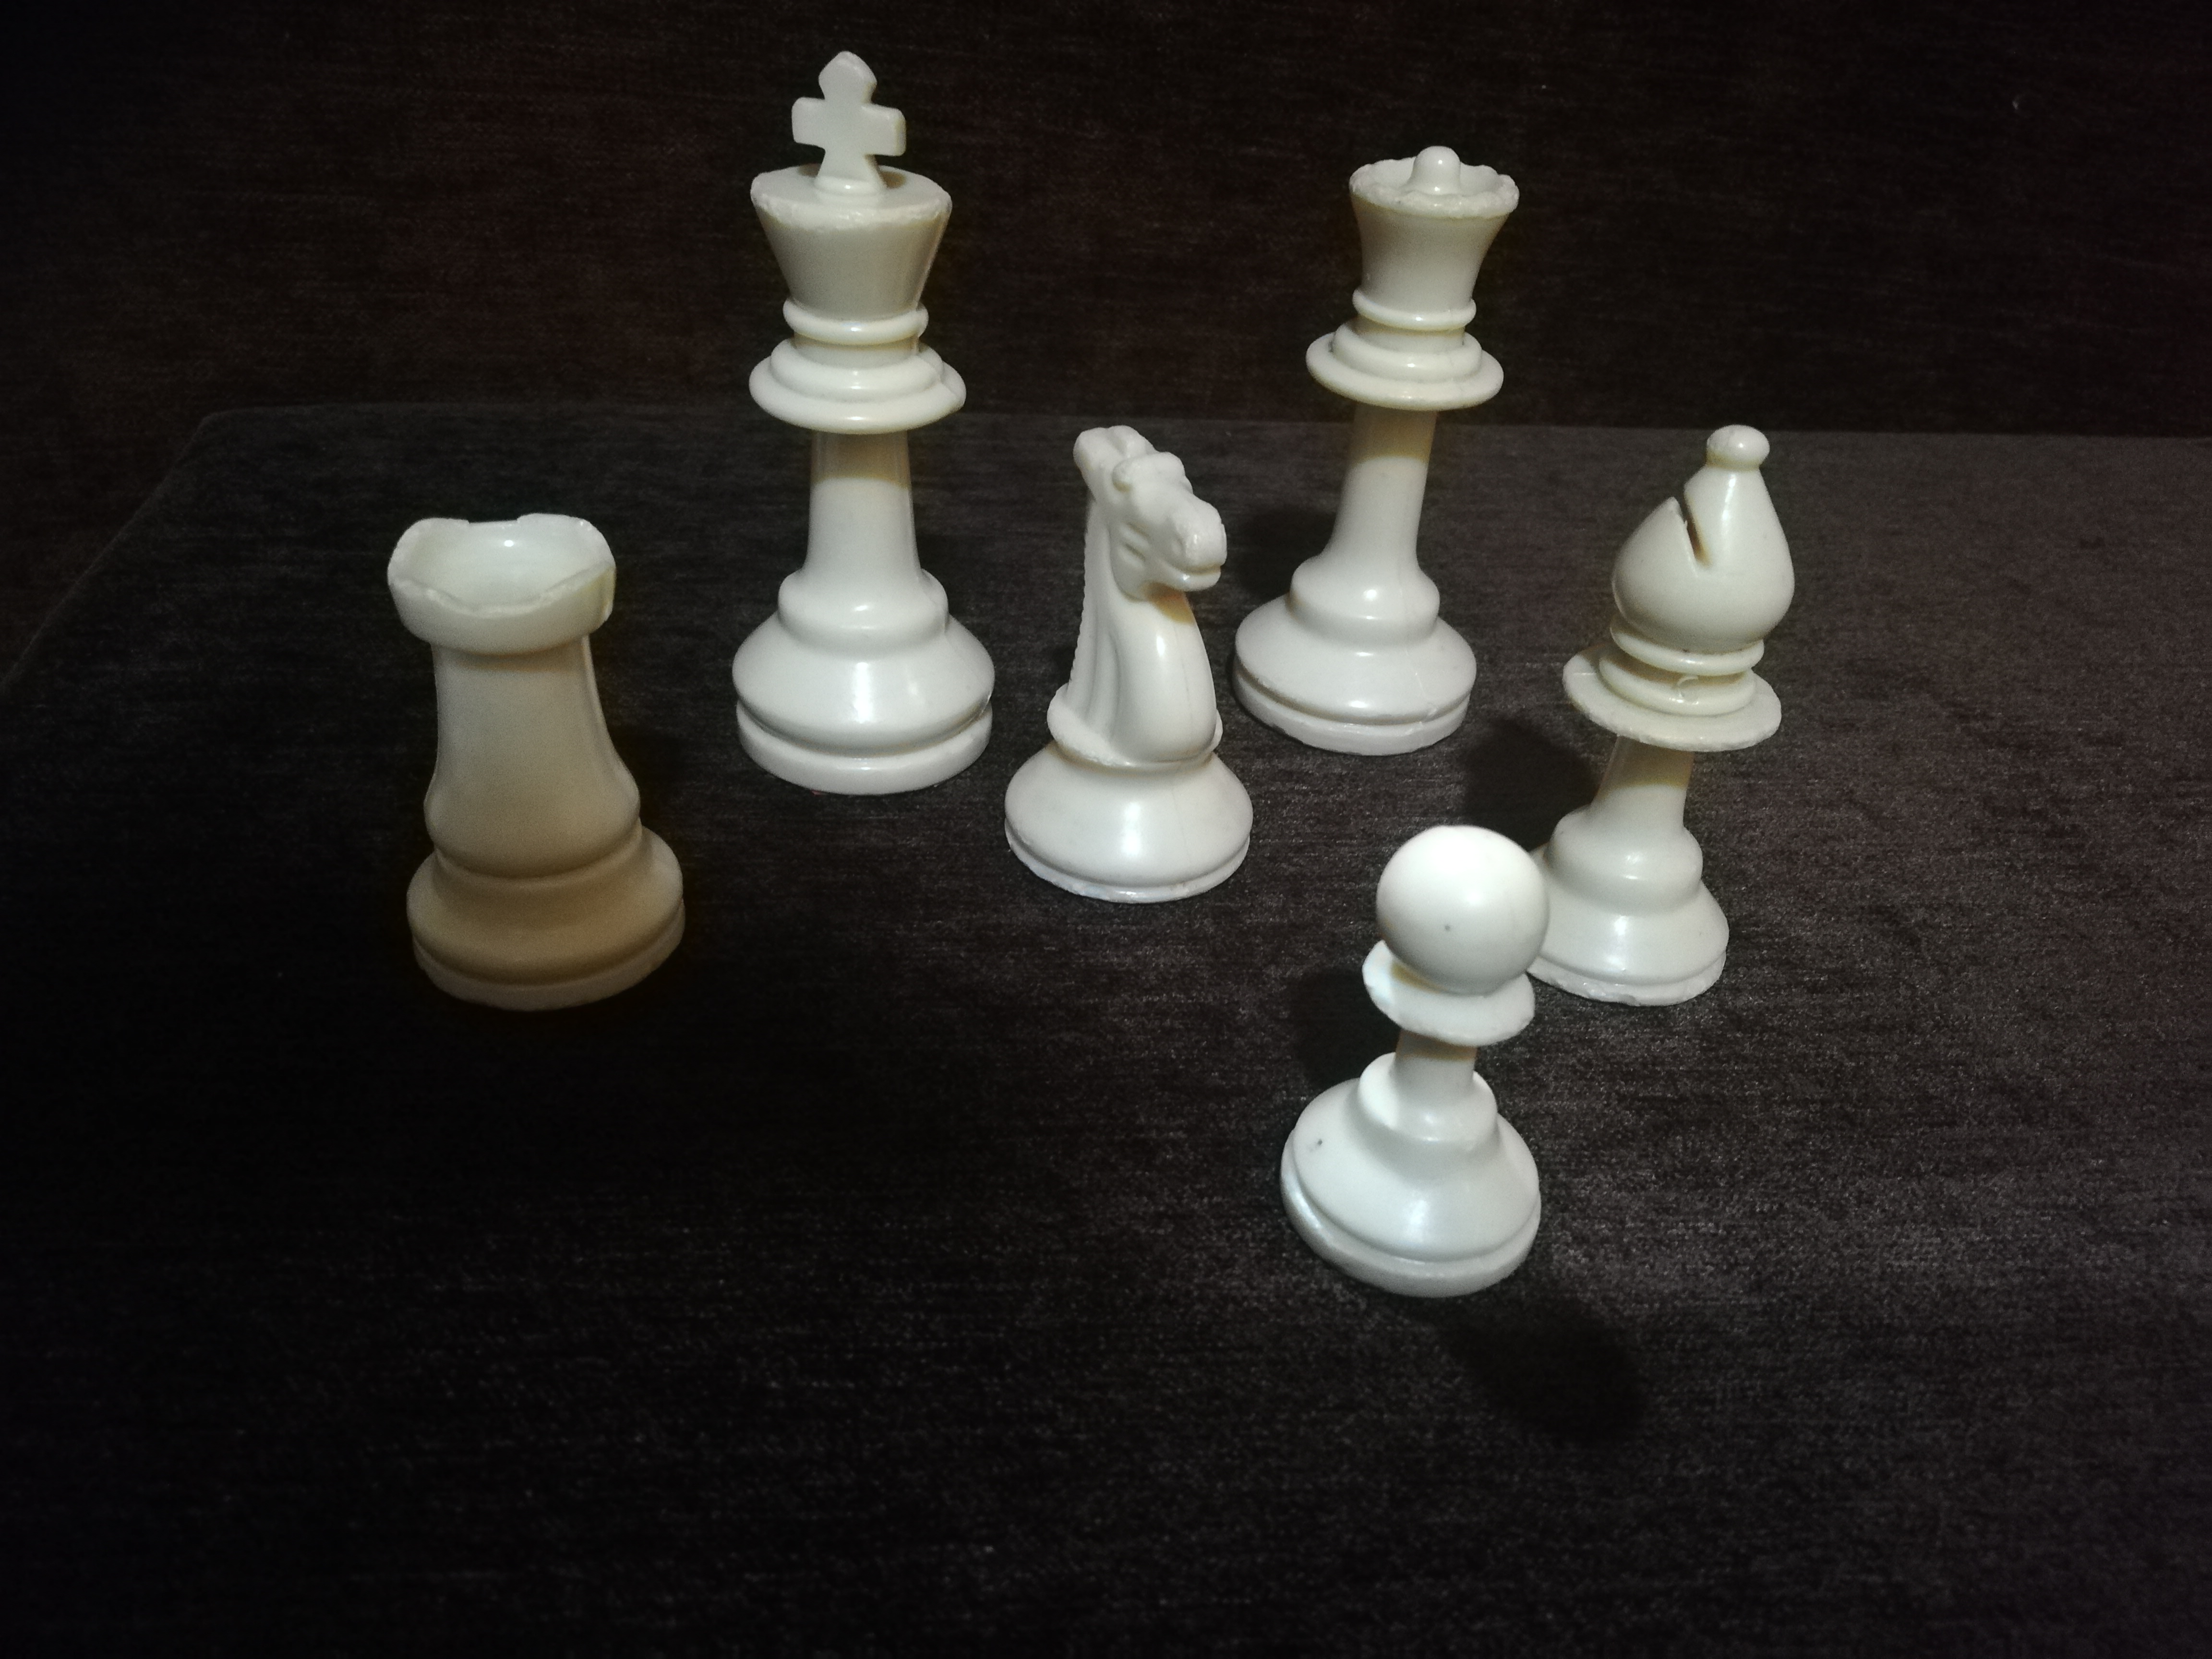Bishop: (1542, 351, 1800, 1005)
King: (689, 52, 991, 783)
Knight: (1002, 424, 1237, 909)
Pawn: (1283, 813, 1579, 1308)
Queen: (1249, 109, 1521, 760)
Rook: (369, 488, 705, 1016)
